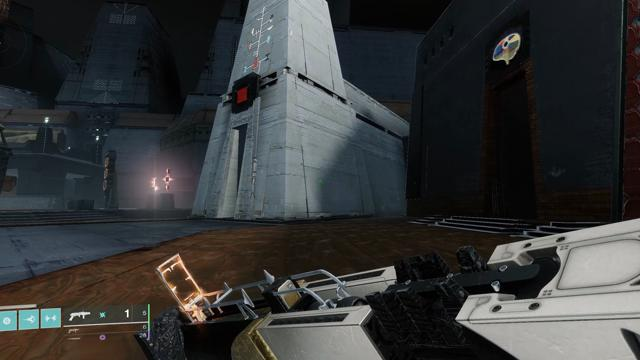brain: (490, 27, 524, 69)
stop: (232, 80, 254, 112)
